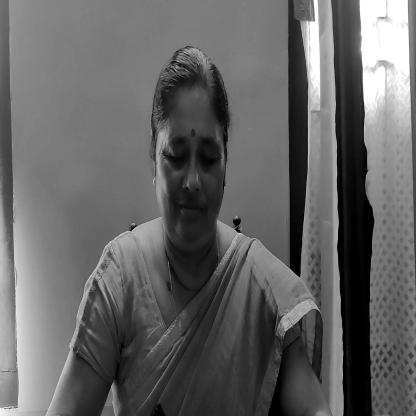Normal: (146, 46, 230, 264)
